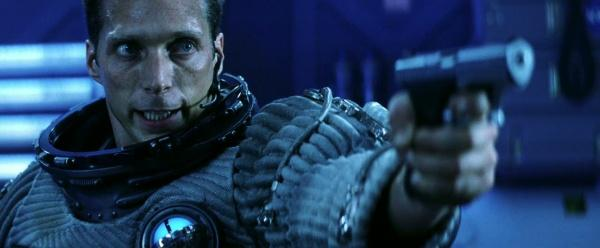Gun: (395, 38, 537, 132)
